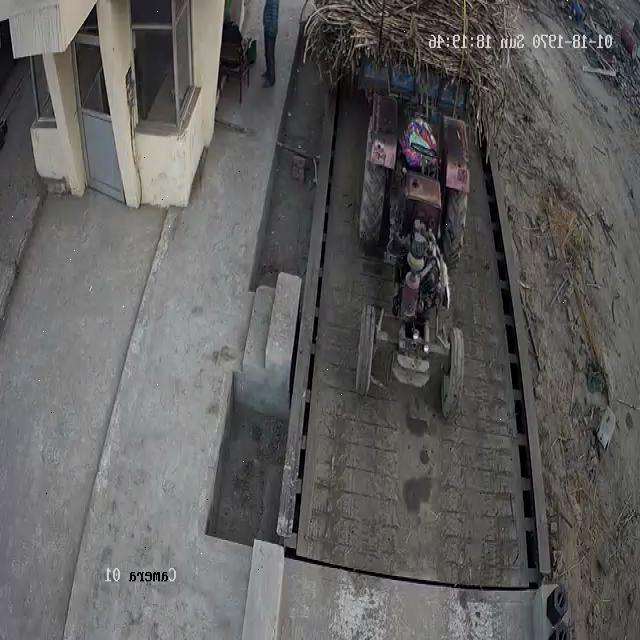Tratores - v5 YOLO V8L 2024-11-13: (357, 114, 470, 420)
